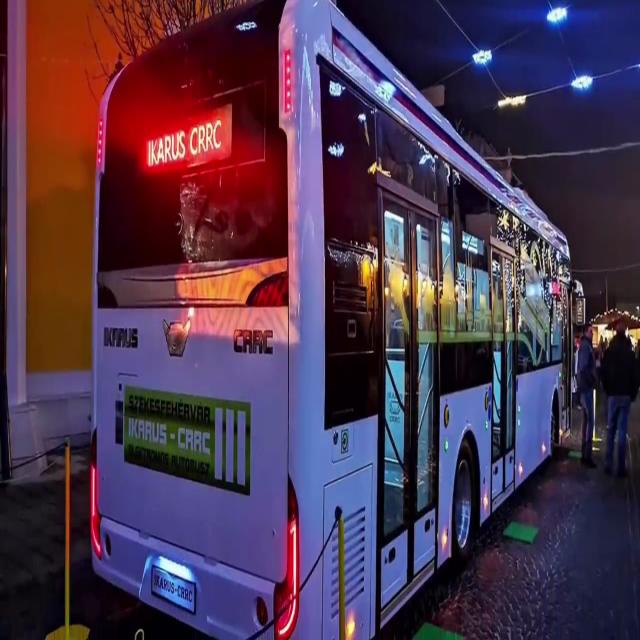bus: (75, 0, 579, 640)
